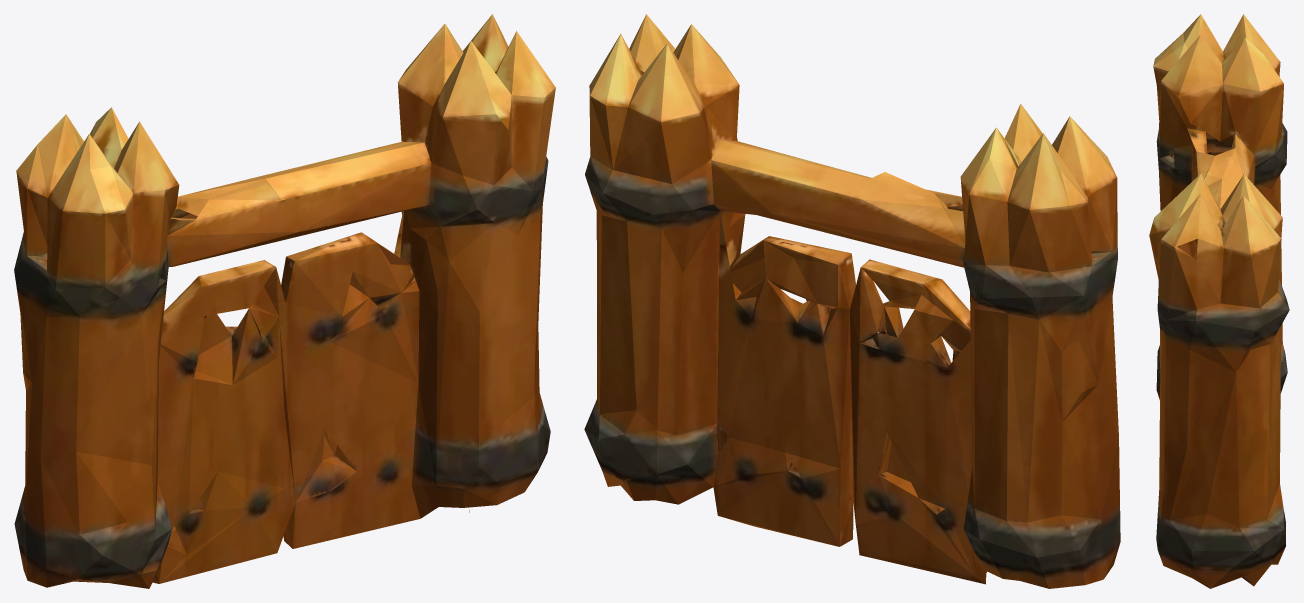
The model's file is palisade-gate.glb.
3 renders of one model, left to right at view 1: azimuth 30°, elevation 25°; view 2: azimuth 150°, elevation 25°; view 3: azimuth 270°, elevation 25°, orthographic. The views are drawn at different scales.
Visible parts, largest first — view 1: palisade-gate; view 2: palisade-gate; view 3: palisade-gate.
Part boxes in pixels (x1,y1,x2,y2): palisade-gate: [14, 14, 555, 588]; palisade-gate: [584, 14, 1120, 588]; palisade-gate: [1149, 14, 1289, 588].
Bounding box in the file's own units: 4.98 × 4.49 × 1.4.
1 material, 1 textured.
